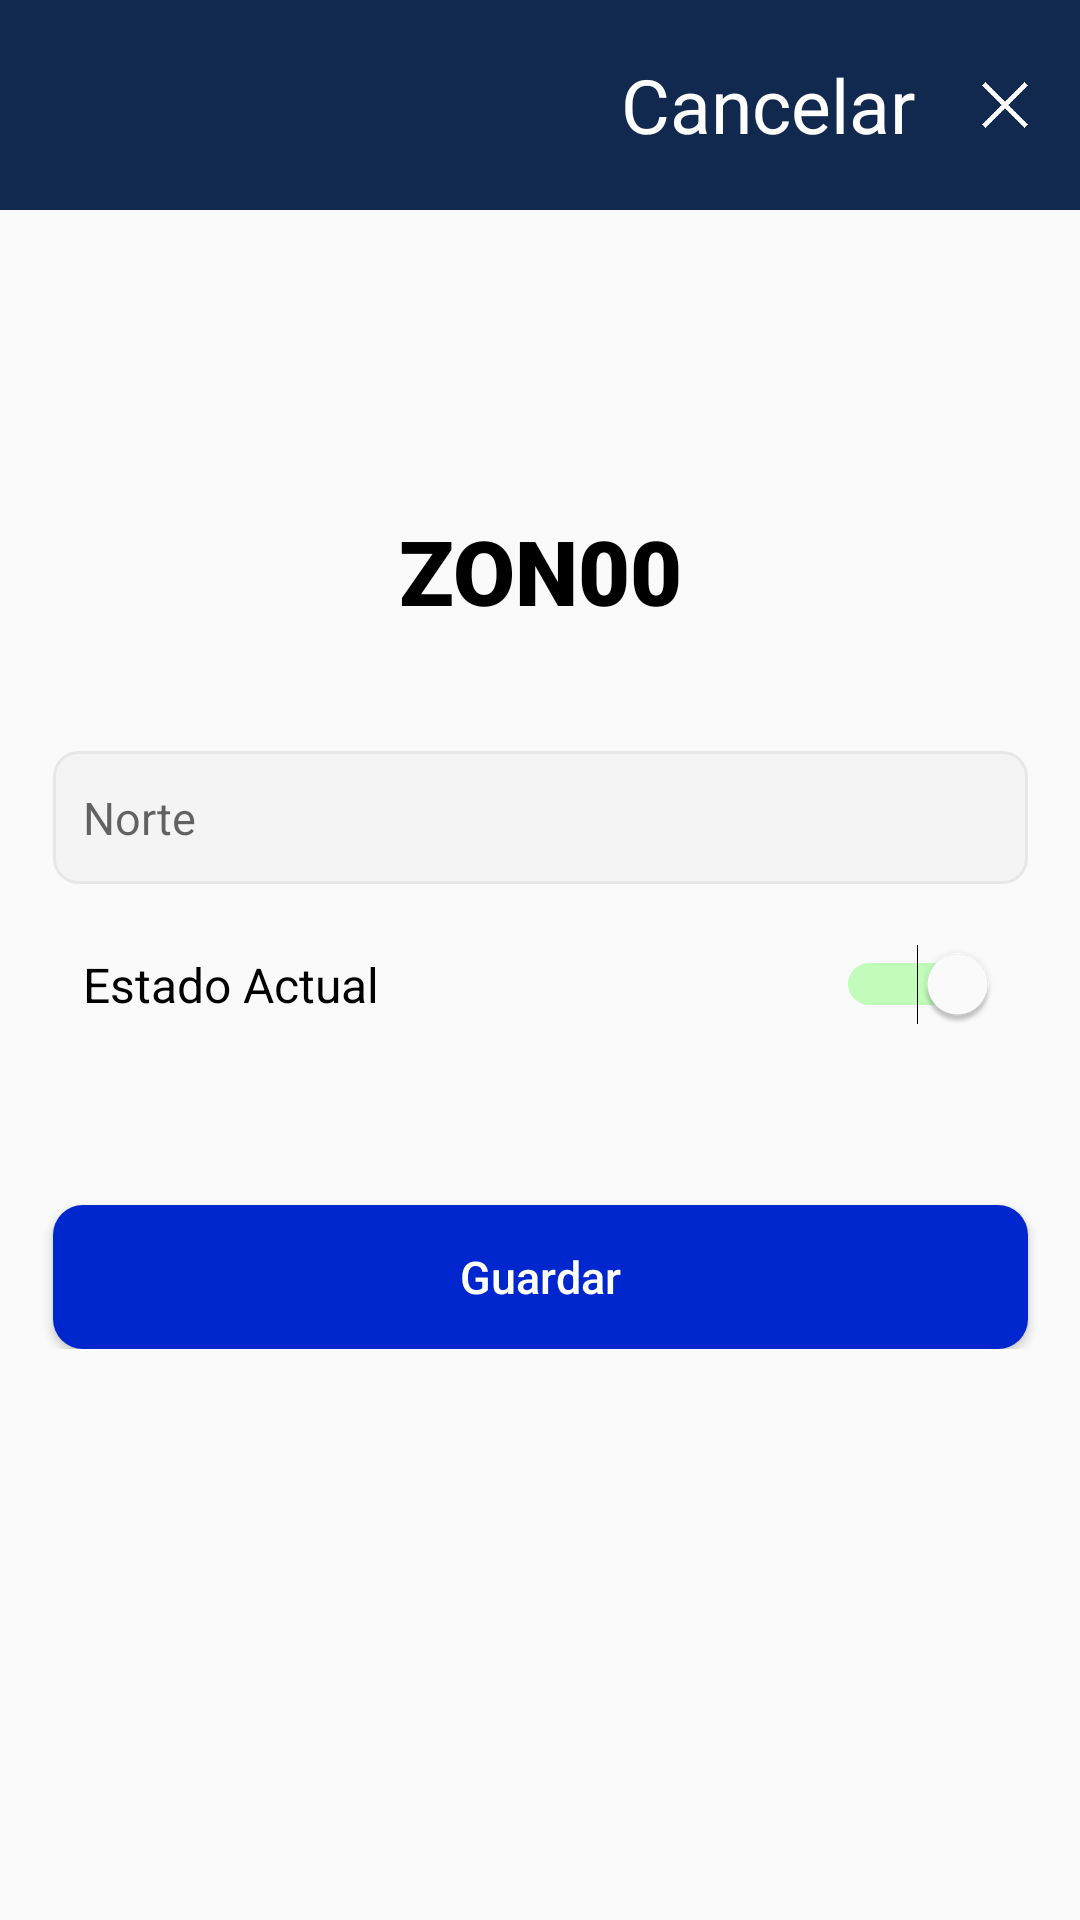

Icon bounding boxes for this 1080*1920 phone screenshot, format (x1, y1, x2, y2):
cancelx: (982, 82, 1028, 128)
